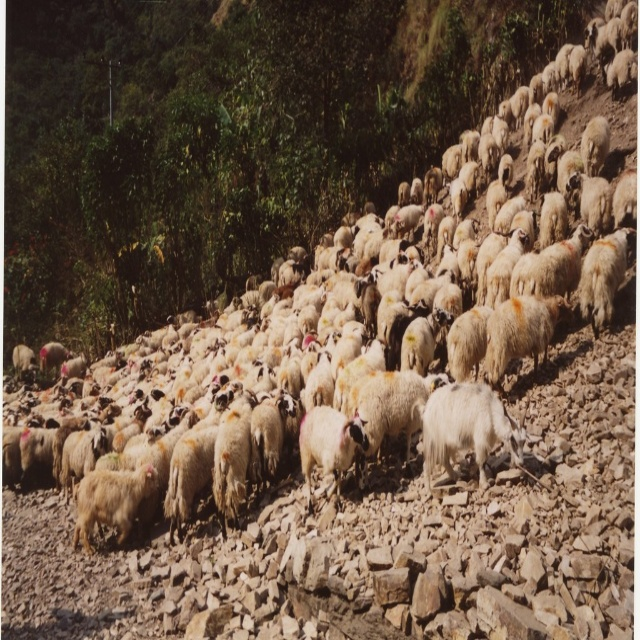Sheep: (3, 0, 639, 556)
